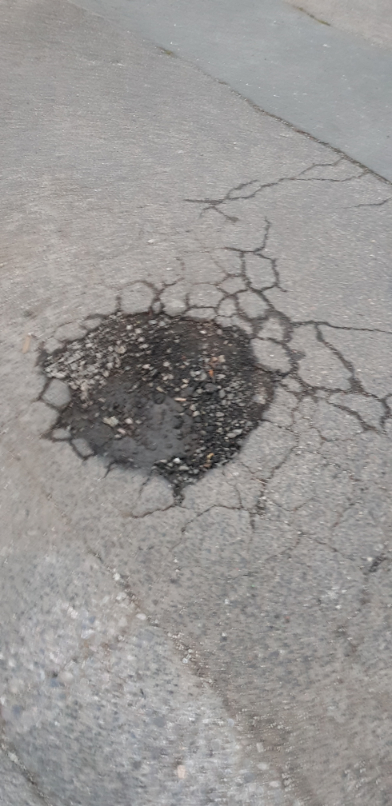pothole: (35, 299, 277, 492)
